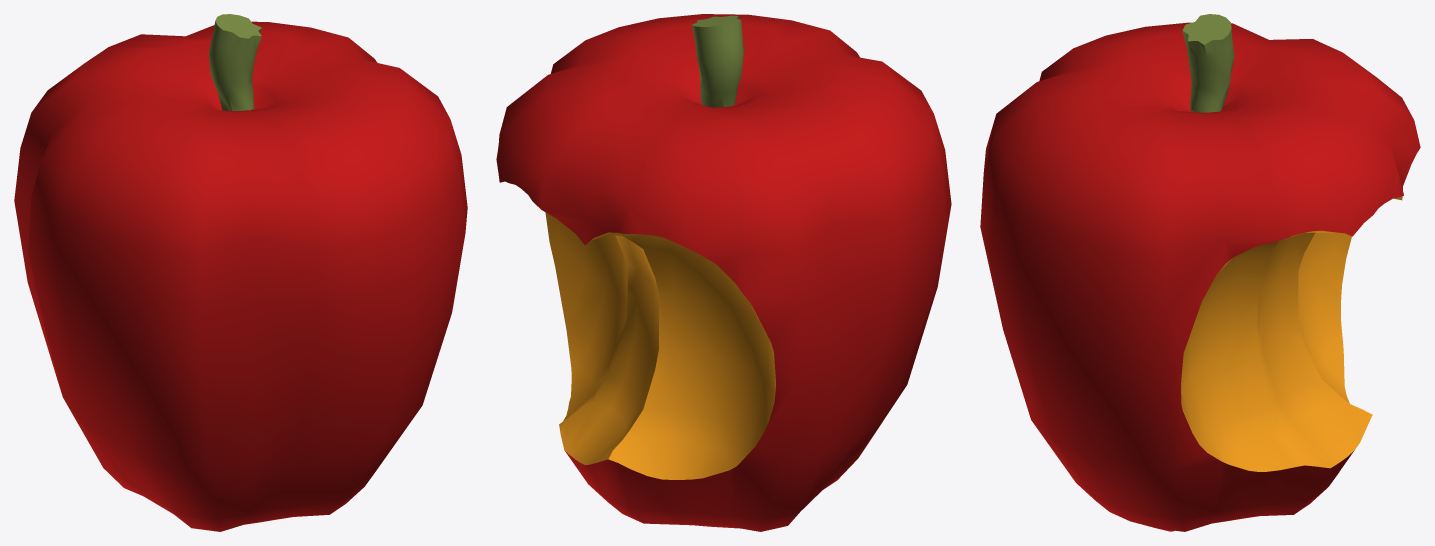
Rendered from Manzana_02.fbx.
3 renders of one model, left to right at view 1: azimuth 30°, elevation 25°; view 2: azimuth 150°, elevation 25°; view 3: azimuth 270°, elevation 25°, orthographic. The views are drawn at different scales.
Visible parts, largest first — view 1: Manzana_02; view 2: Manzana_02; view 3: Manzana_02.
Part boxes in pixels (bbox=[...]): Manzana_02: bbox=[14, 14, 467, 531]; Manzana_02: bbox=[496, 14, 951, 531]; Manzana_02: bbox=[980, 14, 1420, 531].
Size of the model in its own units: 21.04 by 24.74 by 20.65.
